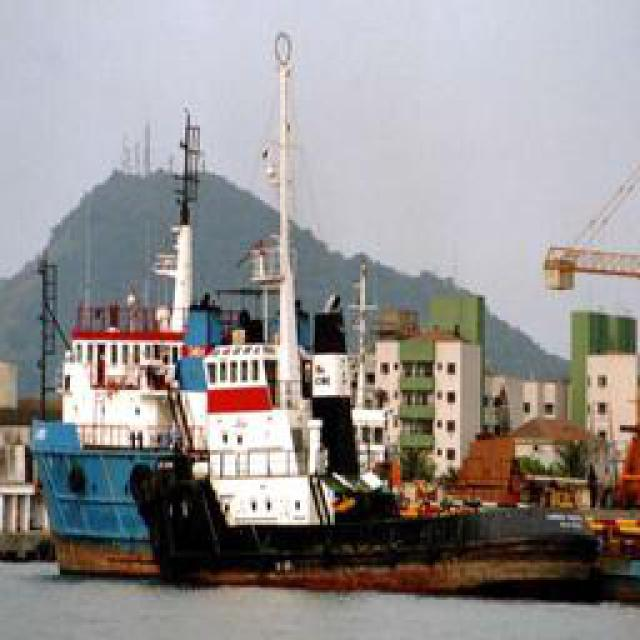Ship: (39, 49, 532, 582)
